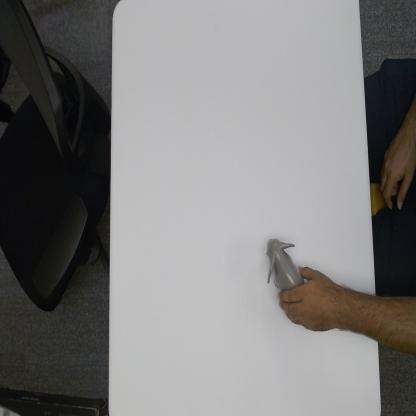Arm: (332, 281, 376, 337)
Elephant: (266, 234, 305, 298)
Hand: (277, 264, 333, 334)
